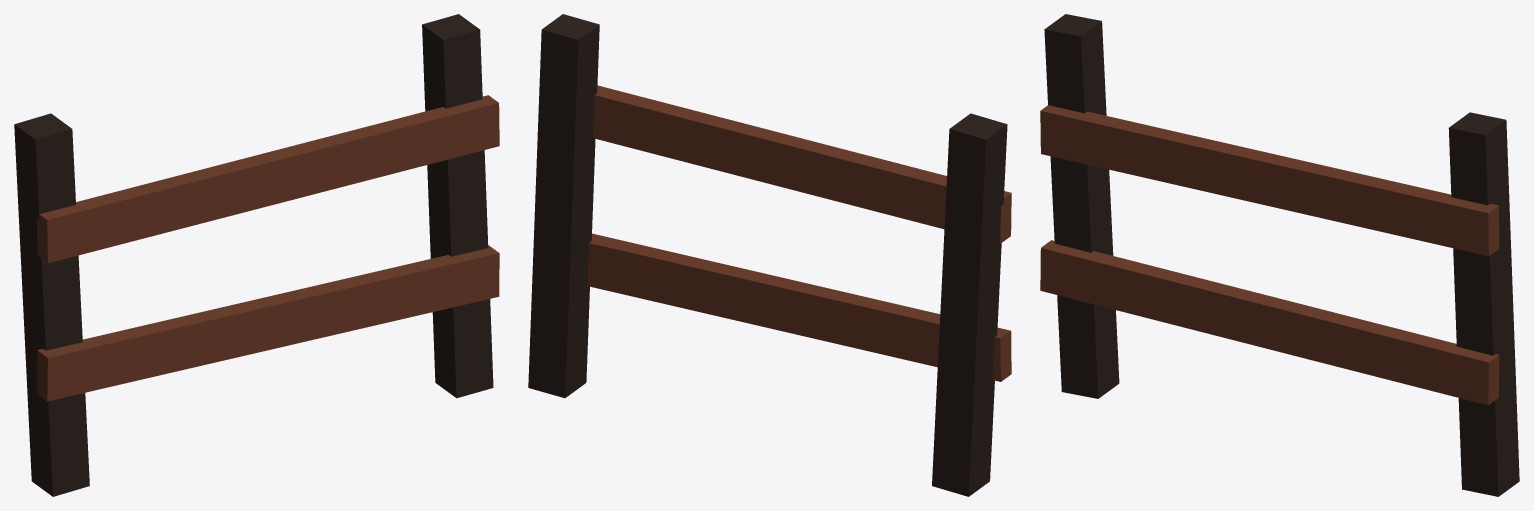
The model's file is fence.glb.
3 renders of one model, left to right at view 1: azimuth 30°, elevation 25°; view 2: azimuth 150°, elevation 25°; view 3: azimuth 330°, elevation 25°, orthographic.
Parts seen in each view (by area): view 1: fence; view 2: fence; view 3: fence.
Part boxes in pixels (x1,y1,x2,y2): fence: (14,14,499,496); fence: (528,14,1011,496); fence: (1040,14,1519,496).
Size of the model in its own units: 0.9934 by 0.7531 by 0.11.
